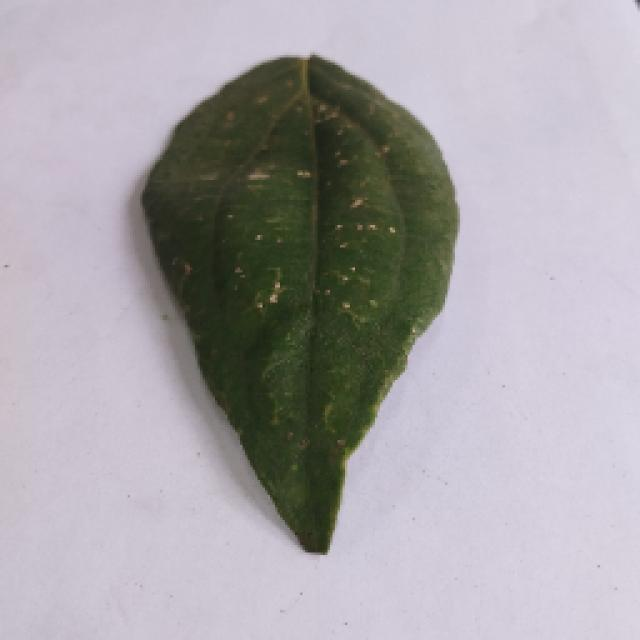pollu-disease: (120, 45, 480, 547)
